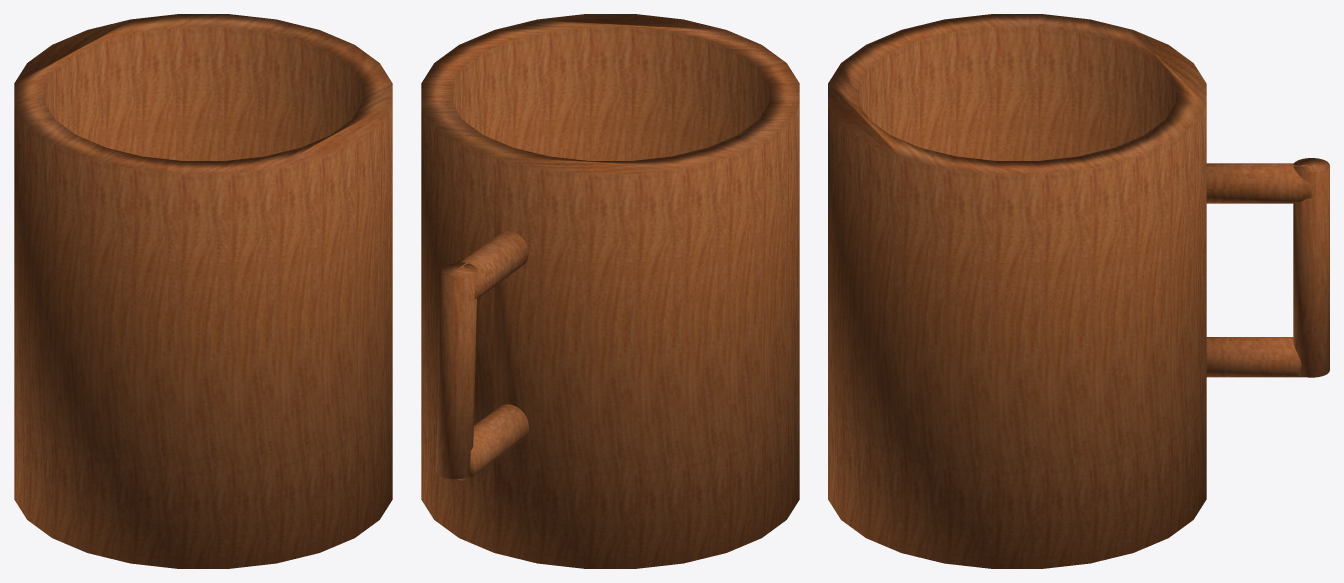
3 renders of one model, left to right at view 1: azimuth 30°, elevation 25°; view 2: azimuth 150°, elevation 25°; view 3: azimuth 270°, elevation 25°, orthographic.
Visible parts, largest first — view 1: mesh1_mesh1-geometry; view 2: mesh1_mesh1-geometry, mesh4_mesh4-geometry, mesh3_mesh3-geometry, mesh2_mesh2-geometry; view 3: mesh1_mesh1-geometry, mesh4_mesh4-geometry, mesh2_mesh2-geometry, mesh3_mesh3-geometry.
Boxes of the visible parts, <box> form: mesh1_mesh1-geometry: <box>14,14,392,568</box>; mesh1_mesh1-geometry: <box>421,14,799,568</box>; mesh4_mesh4-geometry: <box>436,262,477,479</box>; mesh3_mesh3-geometry: <box>457,404,529,480</box>; mesh2_mesh2-geometry: <box>457,231,528,298</box>; mesh1_mesh1-geometry: <box>828,14,1206,568</box>; mesh4_mesh4-geometry: <box>1293,158,1329,377</box>; mesh2_mesh2-geometry: <box>1206,163,1311,203</box>; mesh3_mesh3-geometry: <box>1206,337,1304,377</box>.
Size of the model in its own units: 0.4948 by 0.5699 by 0.6561.
2 materials, 1 textured.
